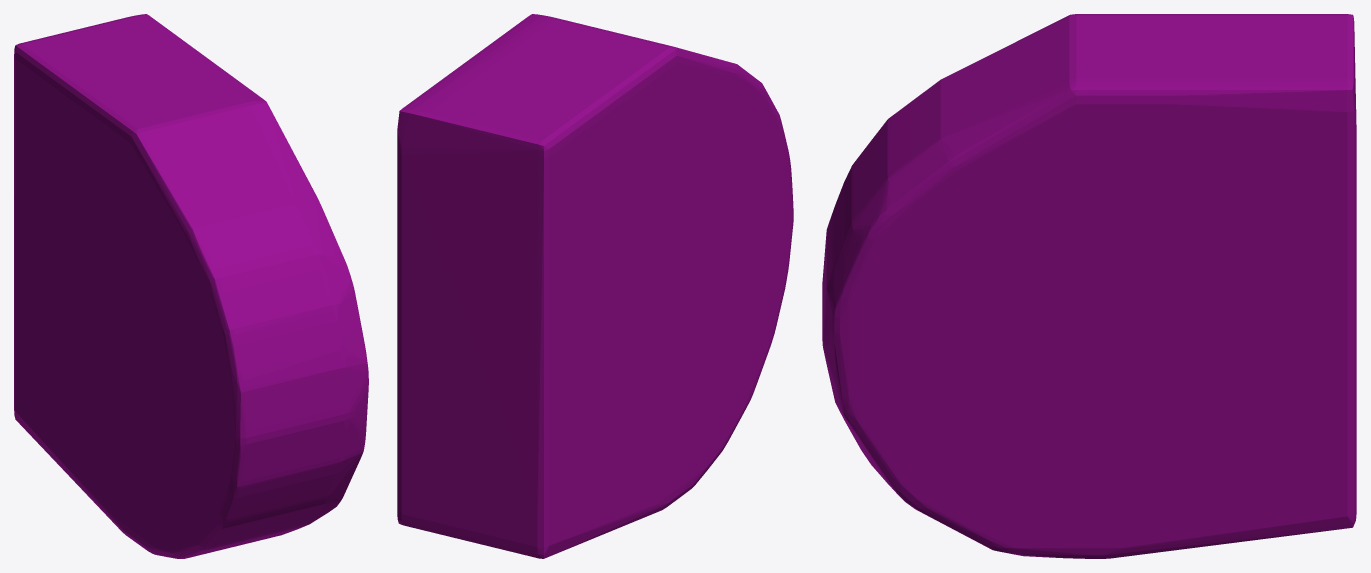
Rendered from left_f_proximal_part_14.obj.
3 renders of one model, left to right at view 1: azimuth 30°, elevation 25°; view 2: azimuth 150°, elevation 25°; view 3: azimuth 270°, elevation 25°, orthographic. The views are drawn at different scales.
Bounding box in the file's own units: 5.27 × 15.17 × 15.25.
